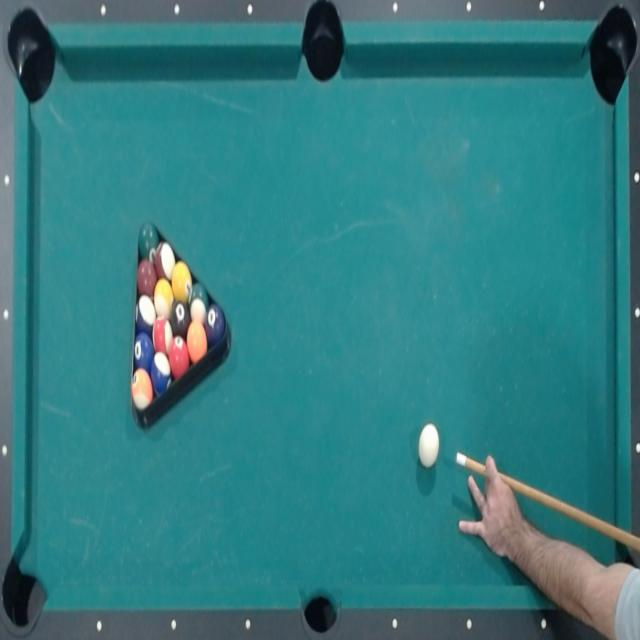black_8ball: (170, 299, 190, 339)
blue_solid: (131, 333, 153, 372)
blue_stripe: (151, 352, 171, 396)
cue_ball: (415, 421, 441, 472)
cue_body: (466, 446, 640, 560)
cue_tip: (453, 450, 468, 468)
green_solid: (136, 222, 160, 262)
green_stripe: (188, 283, 210, 324)
maroon_solid: (136, 258, 157, 298)
maroon_stripe: (152, 241, 176, 283)
orange_solid: (186, 320, 208, 363)
orange_stripe: (130, 368, 153, 412)
player_hand: (458, 454, 544, 566)
purple_solid: (205, 305, 225, 344)
purple_stripe: (134, 295, 155, 335)
red_solid: (170, 336, 190, 378)
red_stripe: (152, 316, 174, 354)
yellow_solid: (170, 262, 193, 302)
yellow_stripe: (152, 278, 175, 318)
